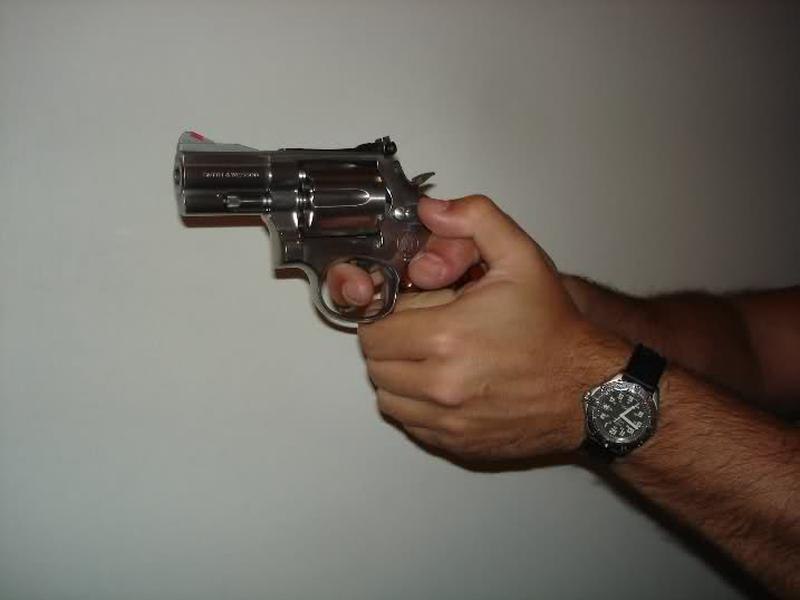Revolver: (168, 109, 482, 372)
